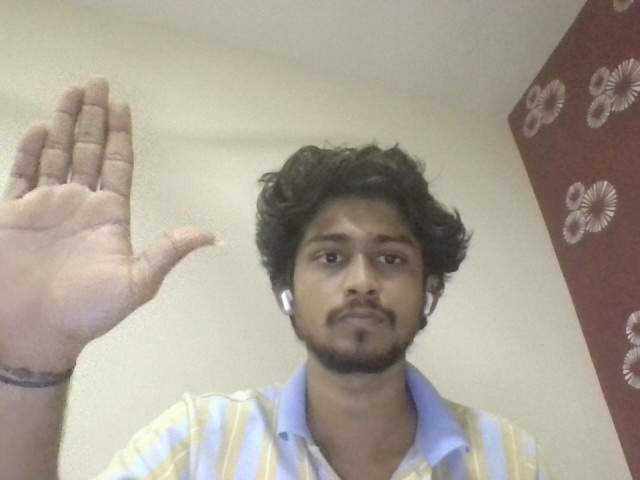hello: (1, 73, 231, 363)
